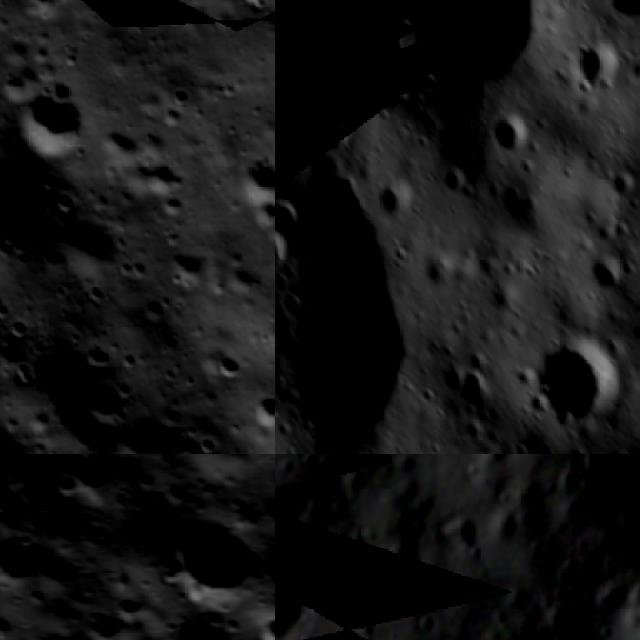crater: (386, 0, 560, 95), (150, 492, 275, 621), (0, 72, 100, 175), (39, 200, 130, 291), (533, 339, 617, 437), (0, 138, 61, 262), (105, 394, 211, 454), (148, 589, 252, 640), (46, 454, 133, 510), (0, 518, 56, 597), (154, 234, 218, 296), (91, 111, 152, 174), (75, 373, 136, 435), (275, 549, 316, 640), (573, 35, 629, 98), (224, 144, 275, 213), (0, 454, 66, 503), (77, 597, 140, 640), (458, 360, 498, 425), (486, 110, 534, 156), (581, 255, 629, 299), (573, 454, 624, 492), (376, 178, 417, 224), (418, 253, 466, 291), (377, 71, 417, 116), (246, 379, 275, 438), (316, 115, 356, 155), (0, 308, 39, 347), (275, 194, 308, 239), (490, 279, 520, 320), (245, 601, 275, 640), (275, 77, 298, 122), (601, 0, 640, 25), (227, 0, 275, 19), (275, 228, 292, 279), (275, 127, 294, 160)
